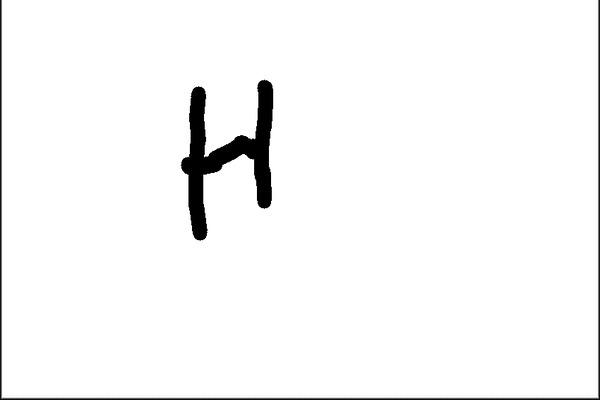H: (174, 69, 287, 242)
